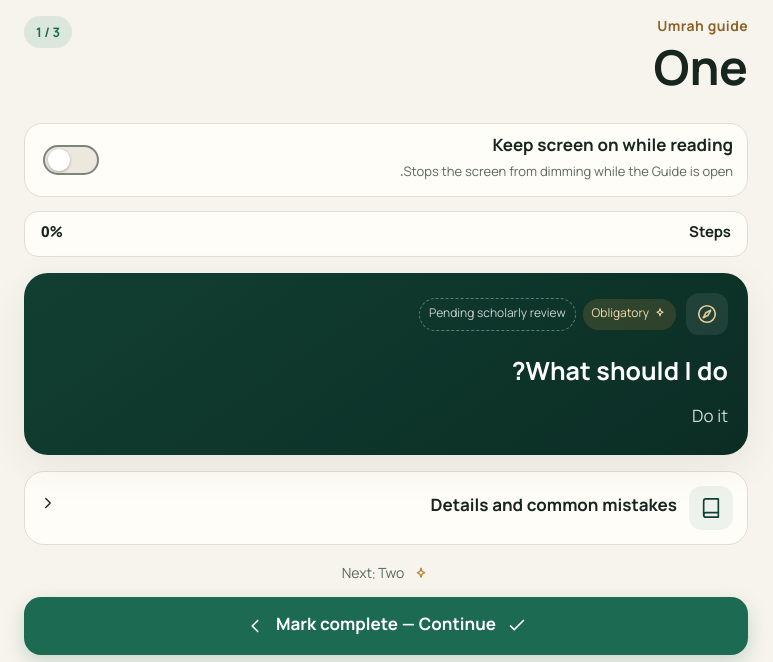
Test: Guide swipe › does not move focus, and slides unless reduced motion is preferred
This screenshot has width=773, height=662.
Press the mouse on the element with class "swipe-area": (386, 364) top-left (24, 273), bottom-right (748, 455)
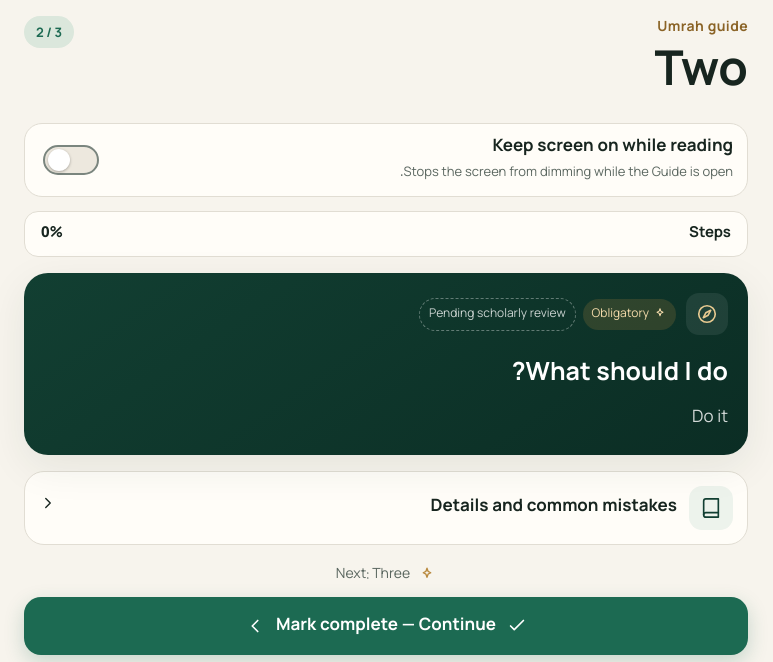
Check: the heading "Two" is shown, box top-left (654, 45), bottom-right (748, 105)
